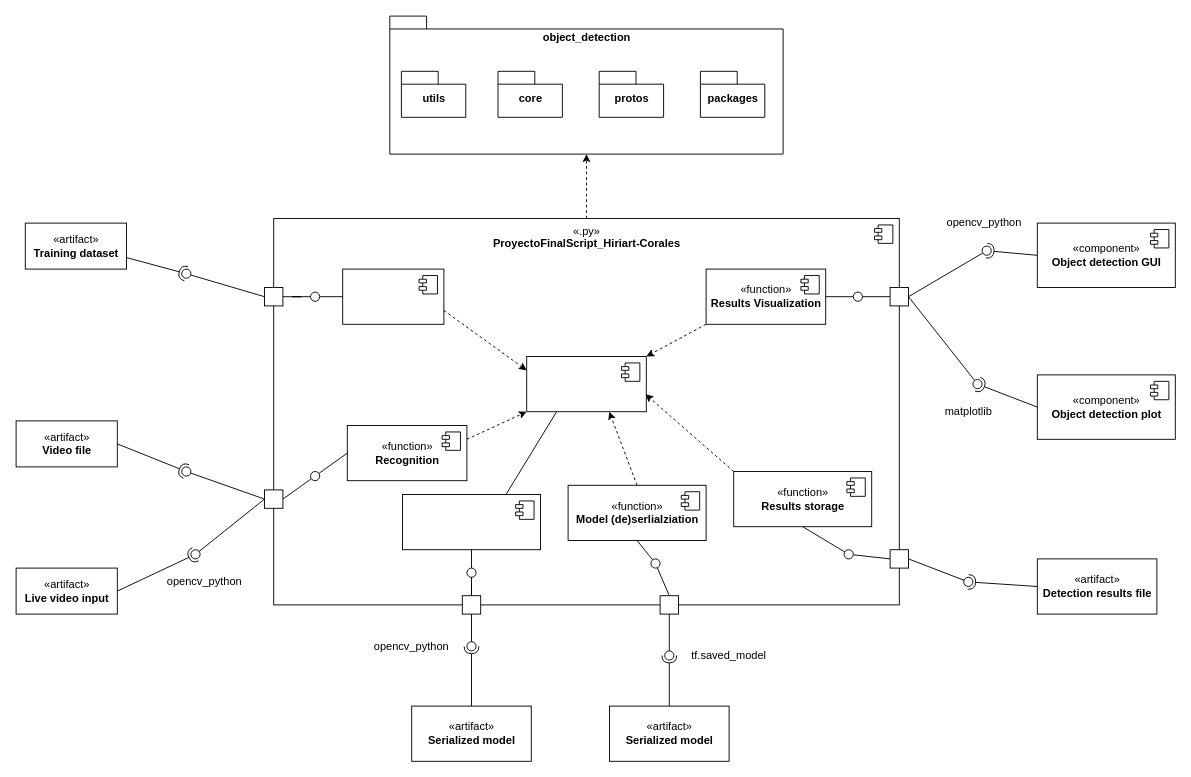
The diagram is 1191 pixels wide and 777 high, and some of its shapes have lost their labels. The centre of each missing label's shape, as x and y in pixels:
"«function» Hub model download" belongs at point (471, 522).
"«function» Training" belongs at point (393, 296).
"«model» ObjectRecognition" belongs at point (586, 384).
